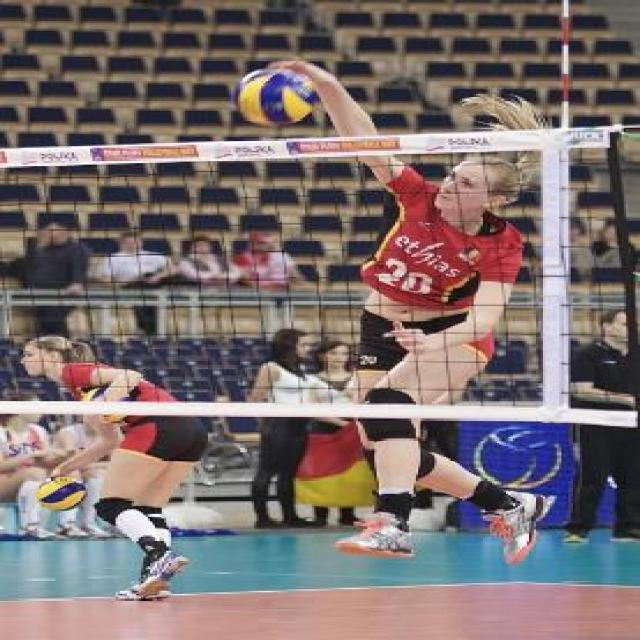volleyball: (232, 68, 322, 128), (36, 475, 88, 512), (80, 387, 109, 402)
